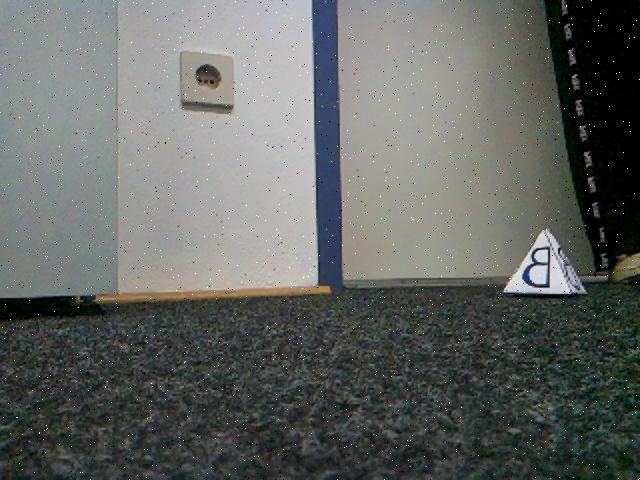B: (502, 228, 585, 297)
